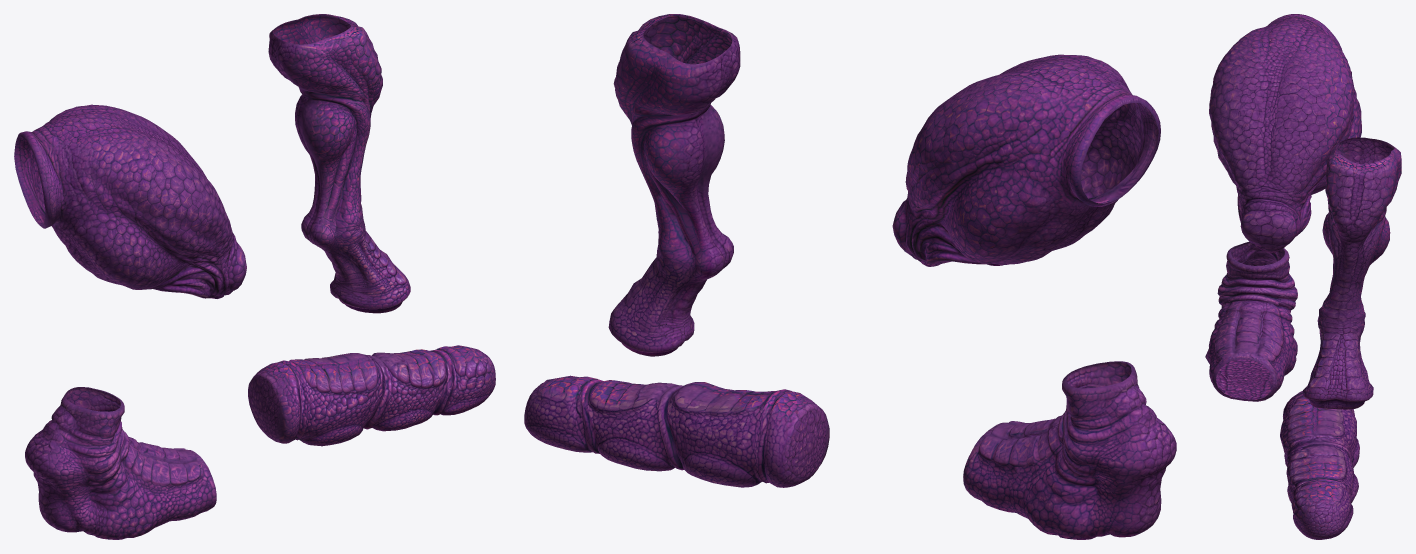
Rendered from biped_legs.glb.
3 views of the same model, side by side, from view 1: azimuth 30°, elevation 25°; view 2: azimuth 150°, elevation 25°; view 3: azimuth 270°, elevation 25° (orthographic). The views are drawn at different scales.
Visible parts, largest first — view 1: tripo_node_5979dd62-2f2f-4815-a0b0-826c42c4dece; view 2: tripo_node_5979dd62-2f2f-4815-a0b0-826c42c4dece; view 3: tripo_node_5979dd62-2f2f-4815-a0b0-826c42c4dece.
Part boxes in pixels (bbox=[...]): tripo_node_5979dd62-2f2f-4815-a0b0-826c42c4dece: bbox=[14, 14, 495, 539]; tripo_node_5979dd62-2f2f-4815-a0b0-826c42c4dece: bbox=[524, 14, 1176, 539]; tripo_node_5979dd62-2f2f-4815-a0b0-826c42c4dece: bbox=[1205, 14, 1401, 539].
Bounding box in the file's own units: 0.9995 × 0.7583 × 0.397.
Materials: 1 (1 with a texture image).
